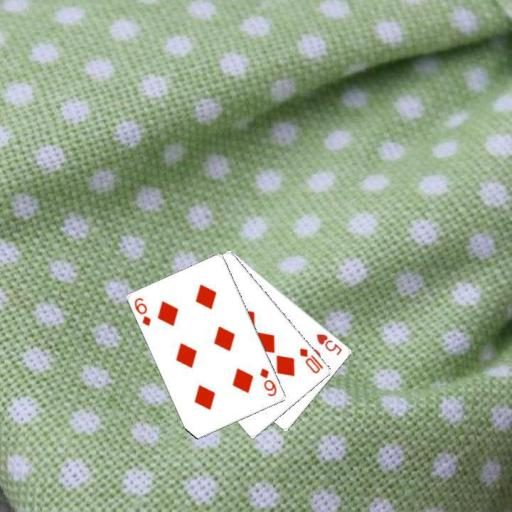10D: (297, 345, 325, 375)
5H: (314, 331, 344, 357)
6D: (131, 294, 153, 328), (257, 365, 279, 398)
